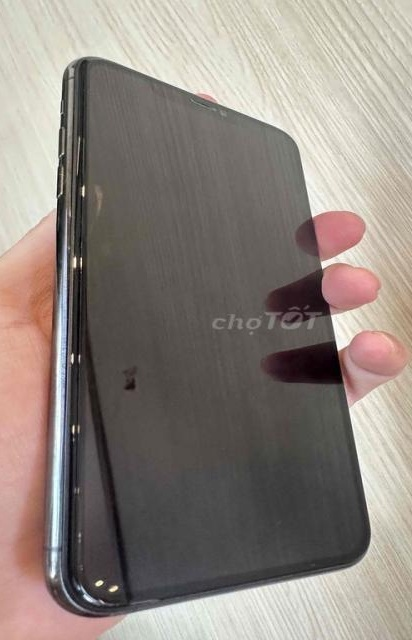scratch: (24, 46, 386, 634), (57, 114, 82, 236), (47, 540, 89, 589), (112, 595, 177, 616), (271, 513, 291, 535), (302, 561, 328, 576)
screen_defect: (89, 175, 123, 232)
